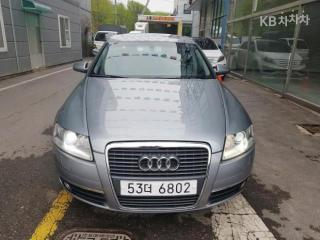0: (175, 182, 183, 194)
2: (183, 182, 191, 194)
3: (135, 183, 143, 194)
5: (127, 182, 136, 195)
6: (158, 183, 166, 194)
8: (167, 182, 175, 194)
plate: (115, 176, 202, 200)
더: (142, 182, 154, 194)
